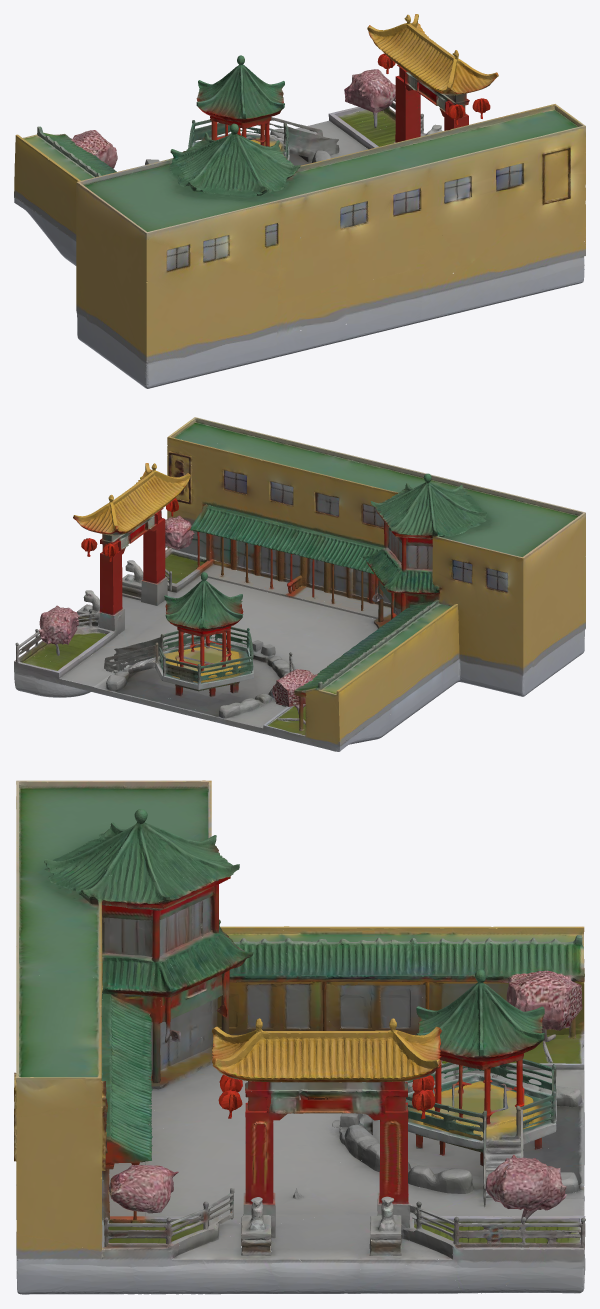
The picture shows the model from 3 angles, top to bottom: view 1: azimuth 30°, elevation 25°; view 2: azimuth 150°, elevation 25°; view 3: azimuth 270°, elevation 25°; orthographic projection. The views are drawn at different scales.
Parts seen in each view (by area): view 1: tripo_node_cd32fd38-cc9b-41eb-8b23-e83027b4c7b7; view 2: tripo_node_cd32fd38-cc9b-41eb-8b23-e83027b4c7b7; view 3: tripo_node_cd32fd38-cc9b-41eb-8b23-e83027b4c7b7.
Boxes of the visible parts, box(x1,y1,x2,y2) form: tripo_node_cd32fd38-cc9b-41eb-8b23-e83027b4c7b7: box(14, 14, 585, 388); tripo_node_cd32fd38-cc9b-41eb-8b23-e83027b4c7b7: box(14, 417, 585, 751); tripo_node_cd32fd38-cc9b-41eb-8b23-e83027b4c7b7: box(14, 780, 585, 1294).
Size of the model in its own units: 0.9954 by 0.437 by 0.8083.
Materials: 1 (1 with a texture image).
